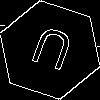U: (25, 25, 76, 80)
